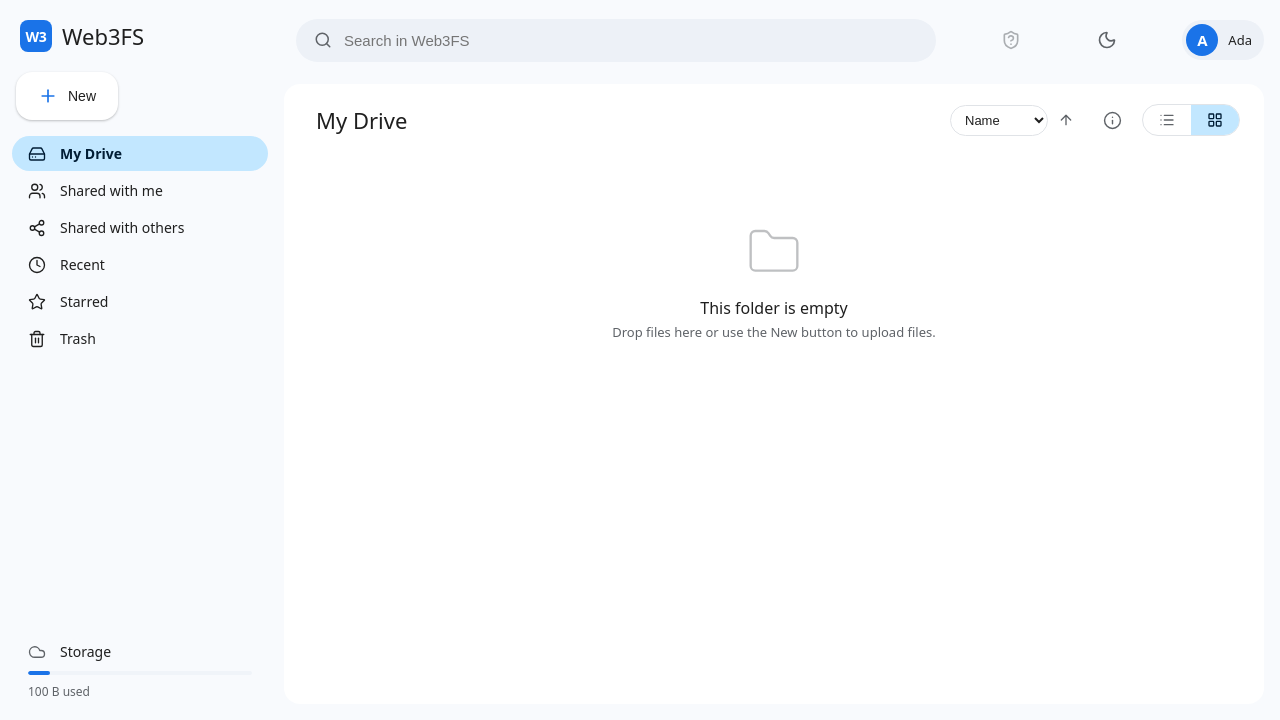
the New menu reveals the create/upload actions
Click the button "New": (67, 96) [16, 72, 118, 120]
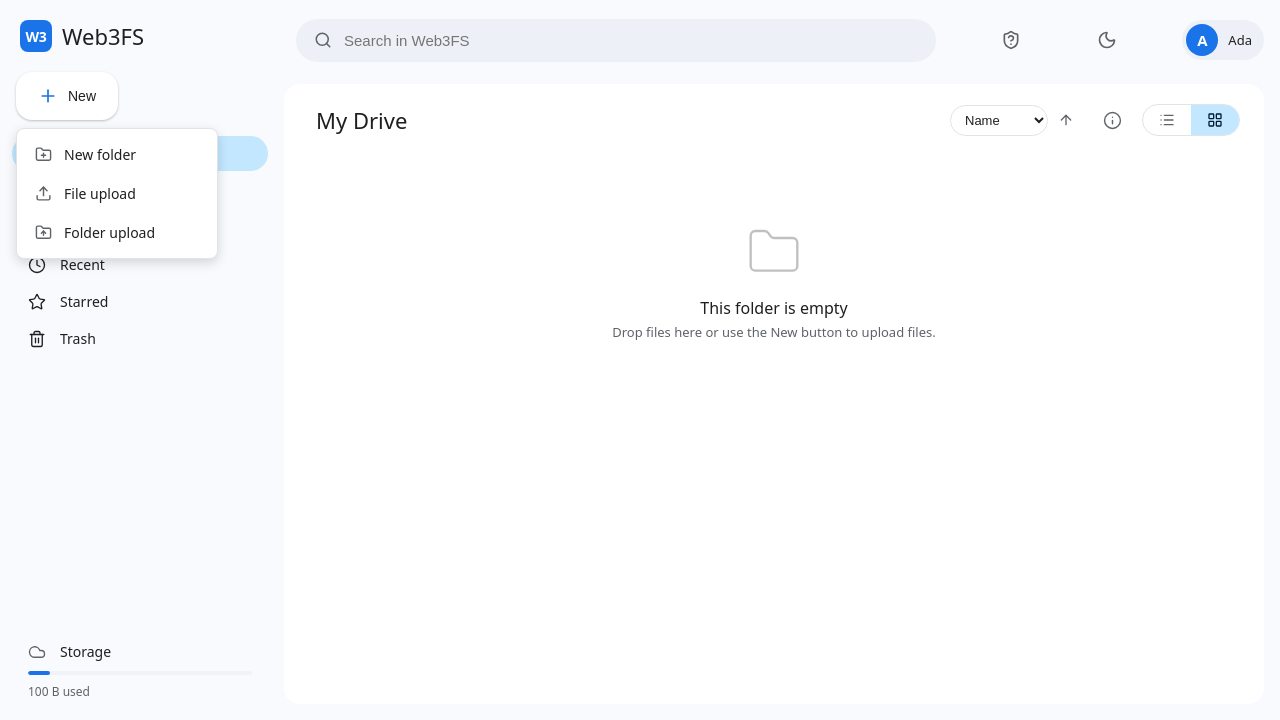
Check: the text "New folder" is shown, box [35, 145, 136, 164]
Check: the text "File upload" is shown, box [35, 184, 136, 203]
Check: the text "Folder upload" is shown, box [35, 223, 155, 242]
